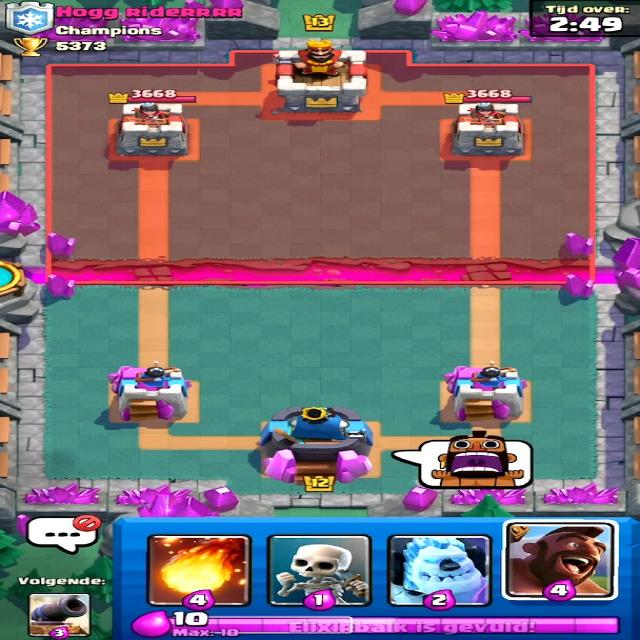Fireball_Card: (148, 536, 250, 606)
Hog_Rider_Card: (506, 518, 618, 600), (506, 518, 617, 600)
Ice_Golem_Card: (391, 540, 489, 604)
Skeleton_Card: (262, 536, 372, 603)
